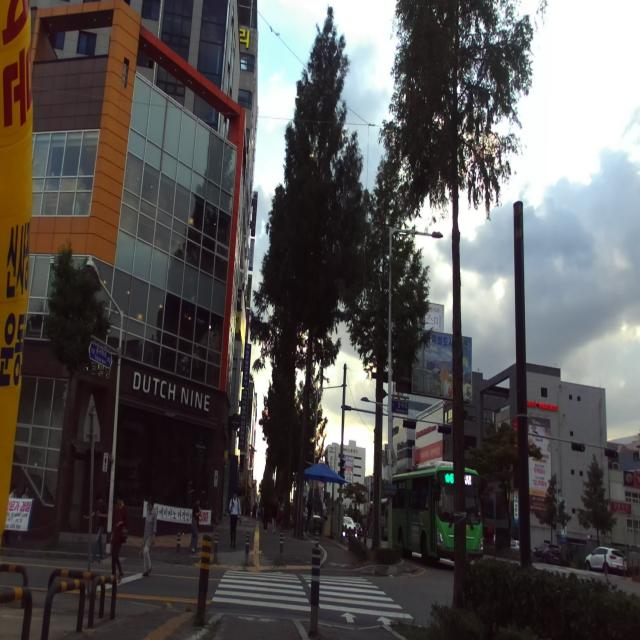횡단보도: (212, 570, 414, 626)
